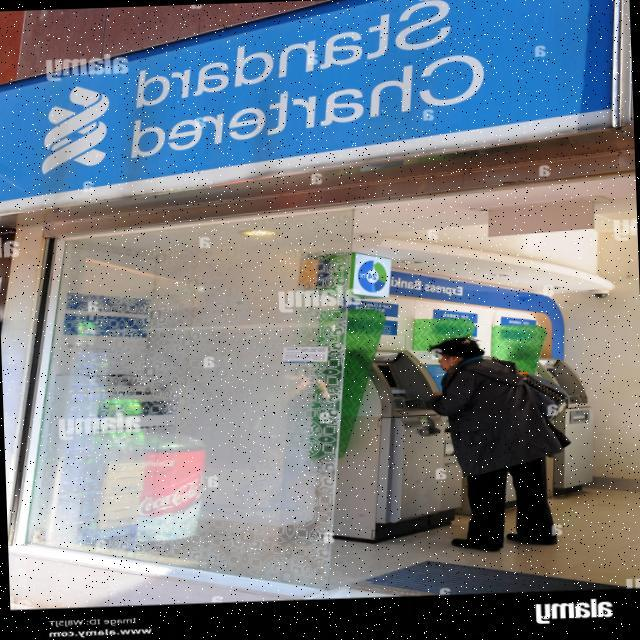Standard Chartered: (24, 0, 494, 179)
